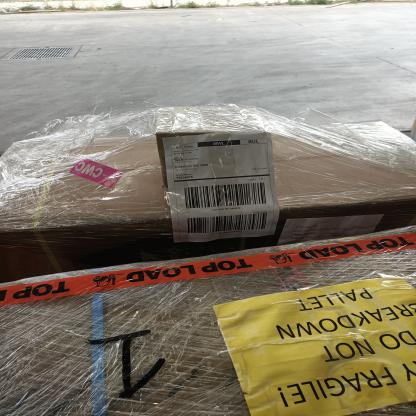label: (163, 133, 284, 243)
package: (0, 226, 416, 416), (0, 105, 416, 283)
